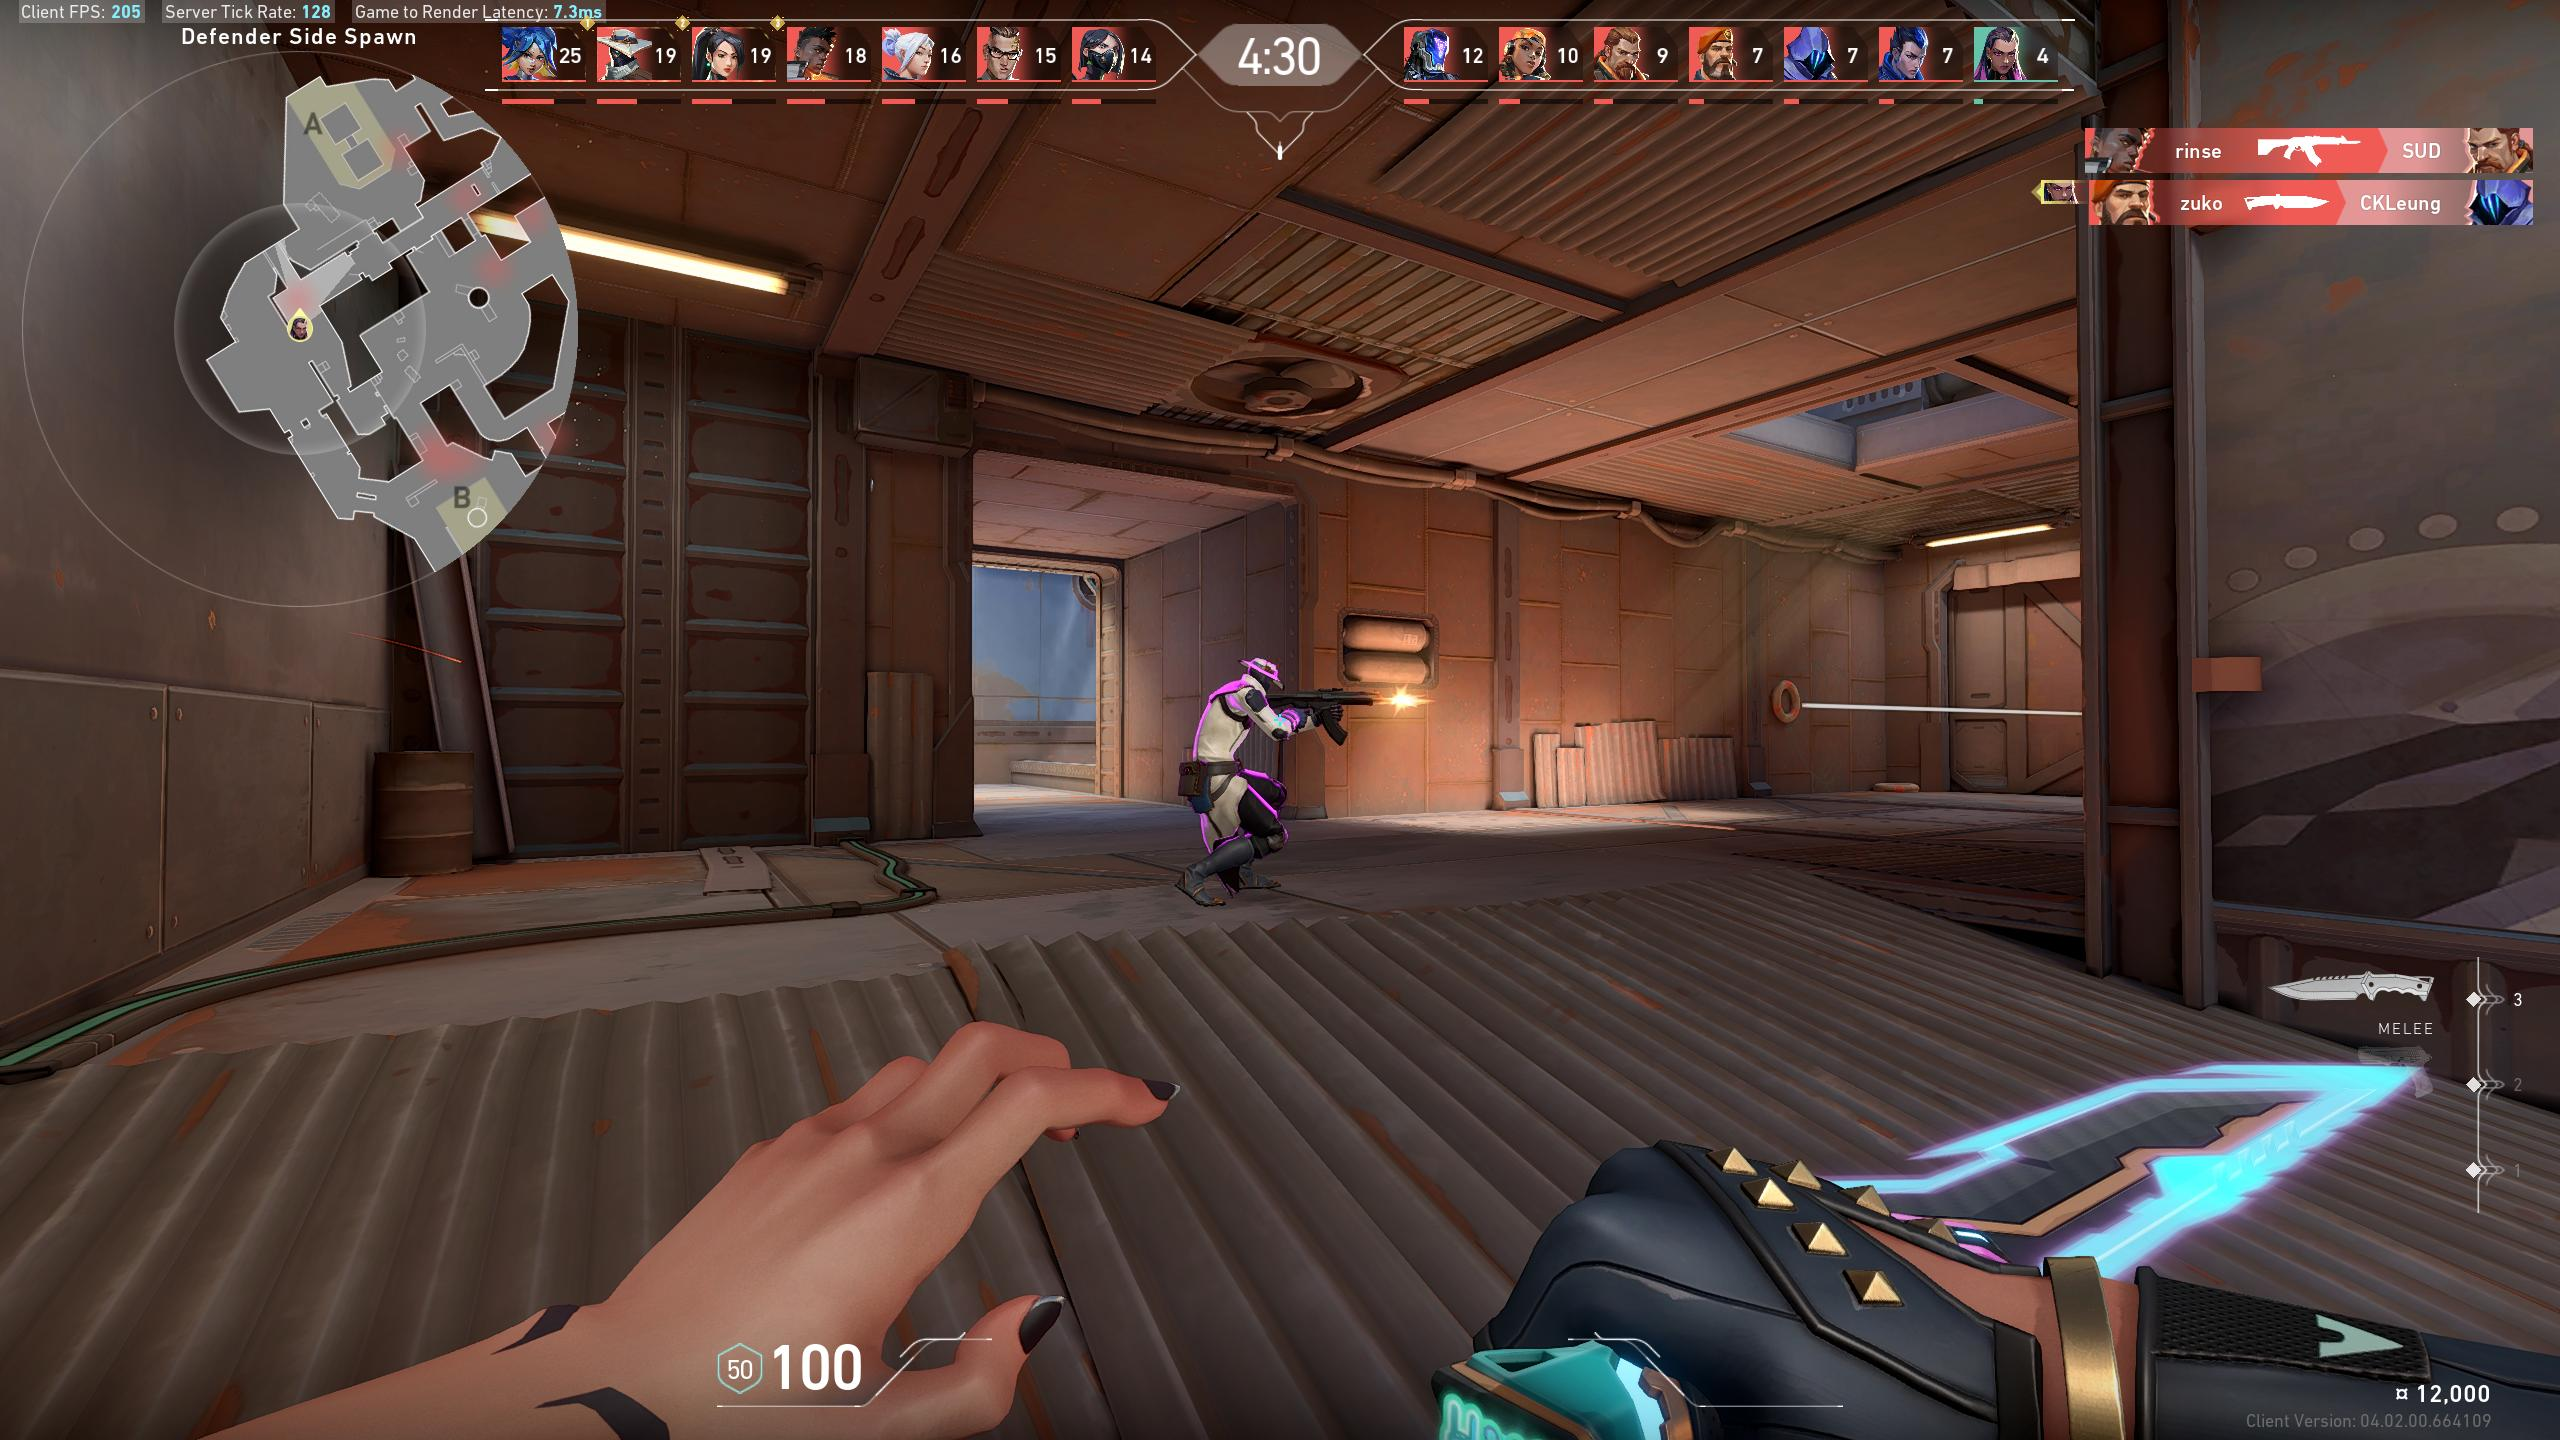enemyBody: (1213, 696, 1240, 745)
enemyHead: (1254, 663, 1269, 687)
